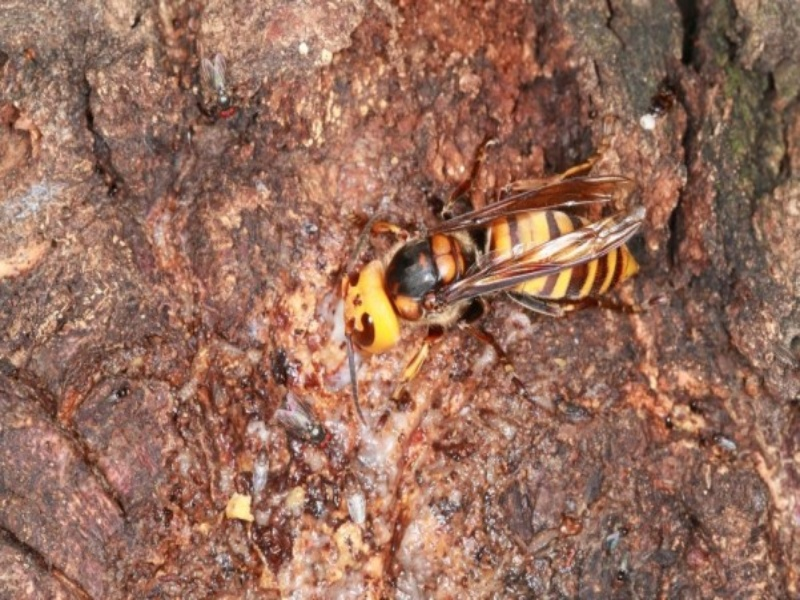asian_giant_hornet: (341, 196, 651, 351)
